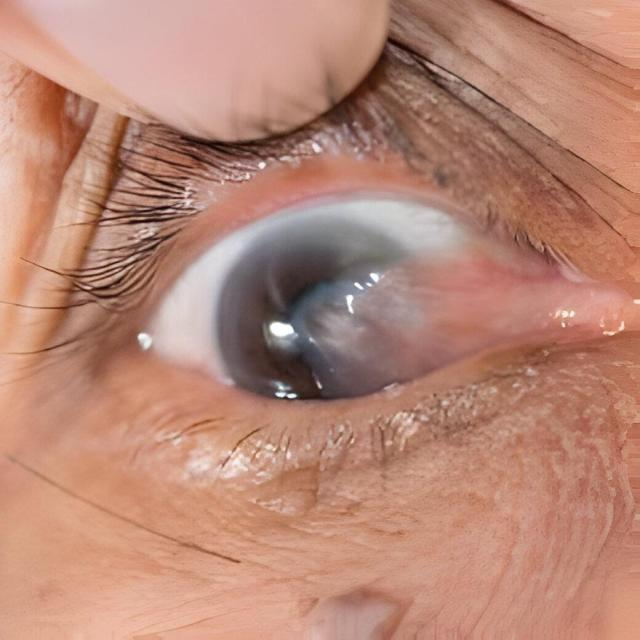Pterygium: (335, 255, 581, 342)
